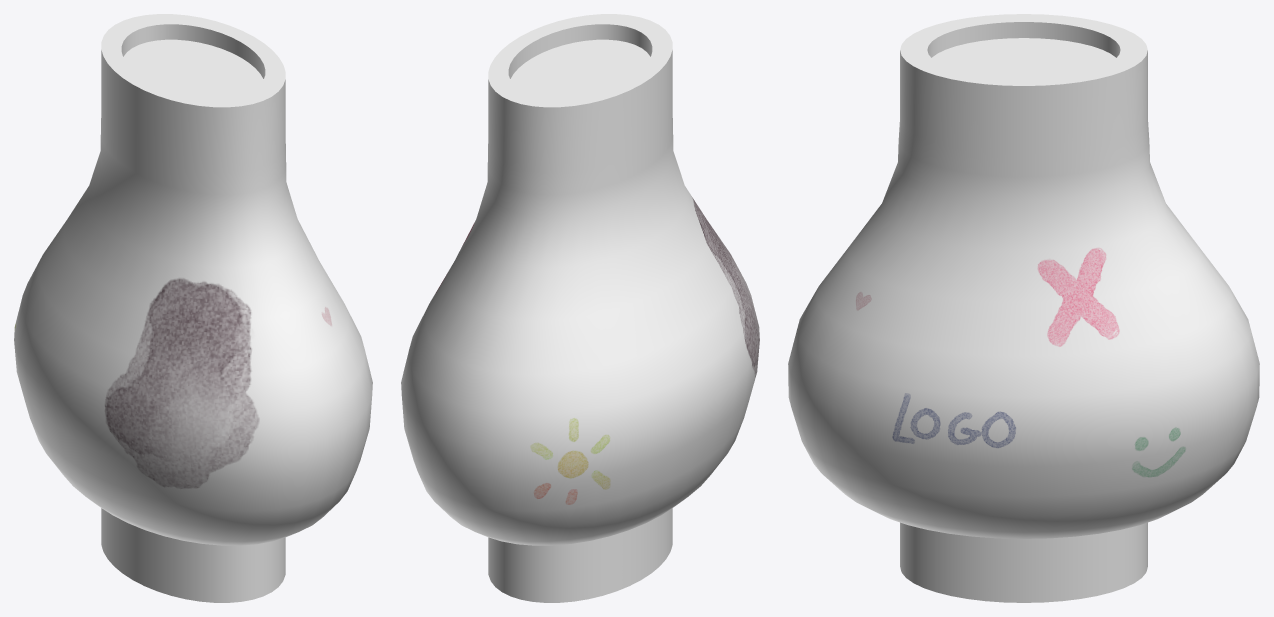
Rendered from Vase_MultiUV_001.fbx.
The picture shows the model from 3 angles, left to right: view 1: azimuth 30°, elevation 25°; view 2: azimuth 150°, elevation 25°; view 3: azimuth 270°, elevation 25°; orthographic projection. The views are drawn at different scales.
Visible parts, largest first — view 1: Vase_002; view 2: Vase_002; view 3: Vase_002.
Boxes of the visible parts, bbox=[...] form: Vase_002: bbox=[14, 14, 372, 602]; Vase_002: bbox=[401, 14, 759, 602]; Vase_002: bbox=[788, 14, 1259, 602].
Size of the model in its own units: 13.58 by 23.02 by 19.04.
1 material, 1 textured.
